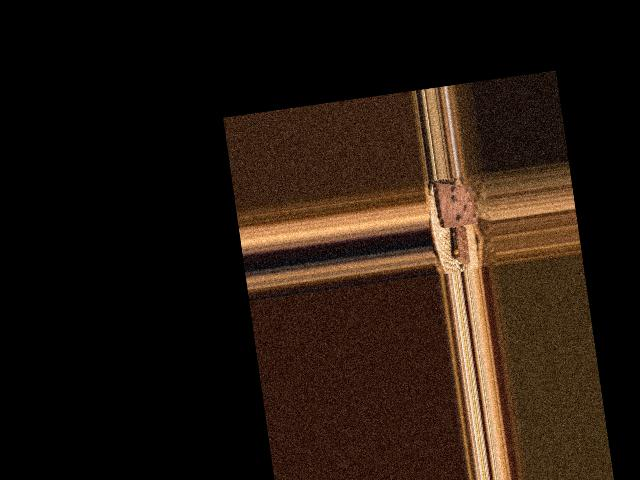chocolate: (433, 177, 479, 231)
